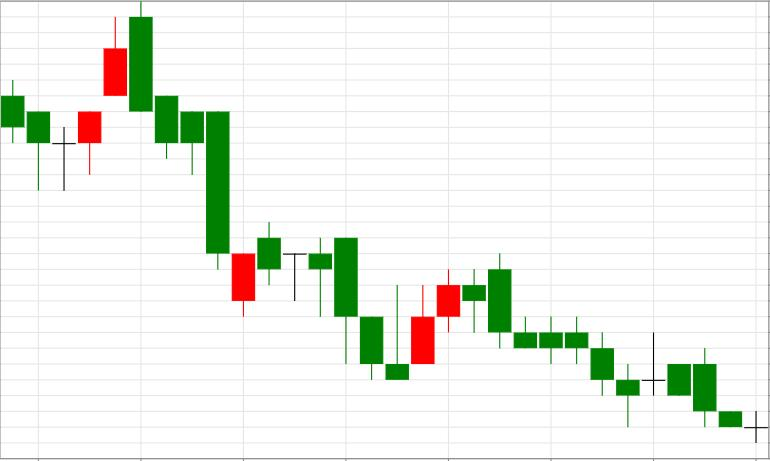bearish_engulfing_fall: (51, 1, 153, 191)
morning_star_rise: (257, 223, 434, 380)
